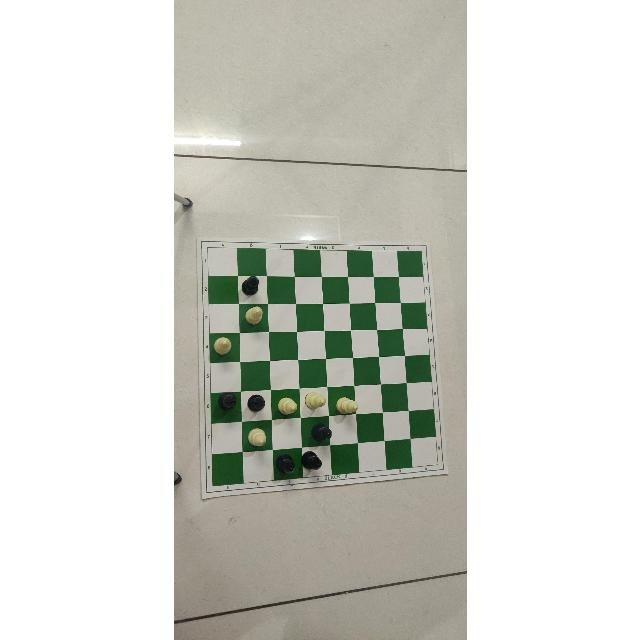black-bishop: (306, 418, 338, 442), (300, 445, 325, 475), (273, 451, 297, 479), (216, 389, 240, 414), (238, 270, 260, 295), (246, 391, 266, 414)
white-bishop: (242, 421, 272, 448), (209, 332, 236, 360), (332, 391, 360, 418), (239, 300, 266, 327), (275, 390, 299, 415), (304, 388, 327, 410)
